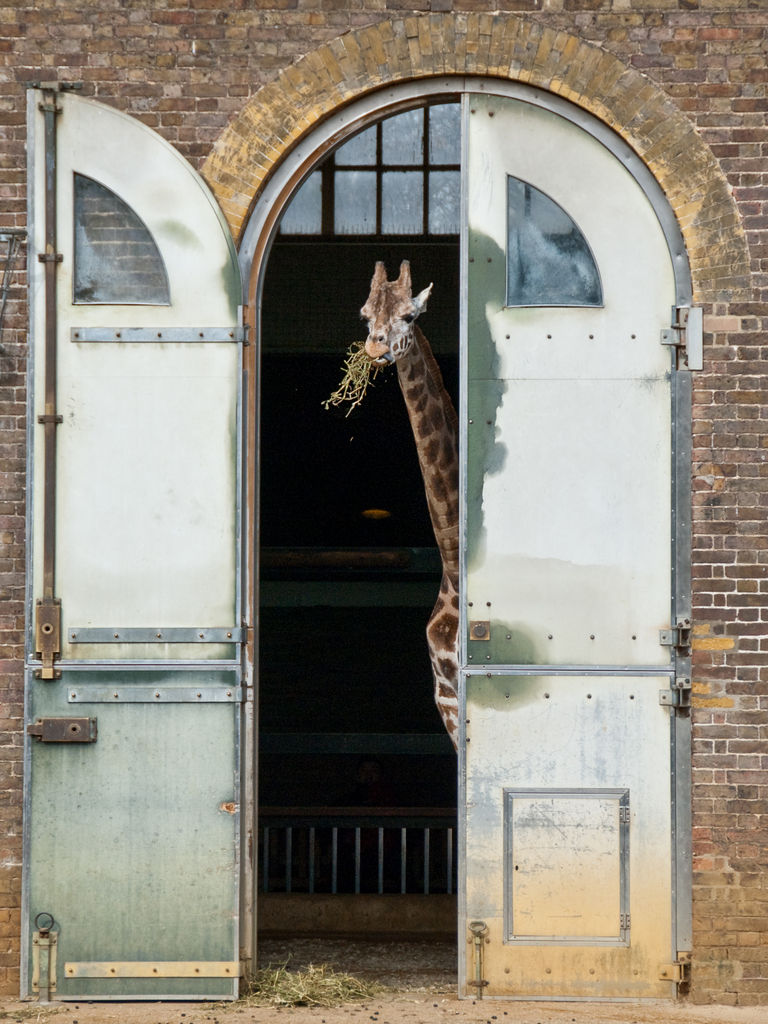Door: (458, 68, 685, 1012), (21, 64, 241, 1005)
